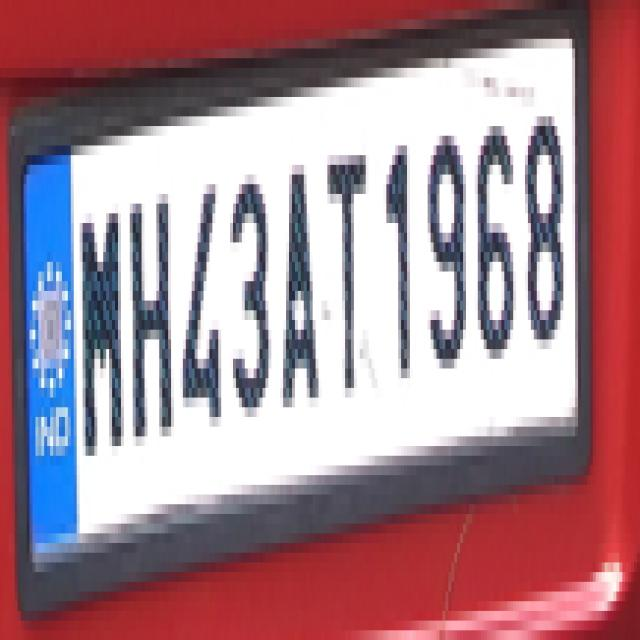1: (383, 129, 423, 405)
3: (231, 175, 274, 428)
4: (181, 167, 226, 425)
6: (476, 116, 515, 370)
8: (525, 125, 571, 359)
9: (427, 133, 470, 371)
A: (280, 158, 324, 434)
H: (128, 190, 176, 462)
M: (76, 180, 125, 462)
T: (325, 140, 376, 405)
